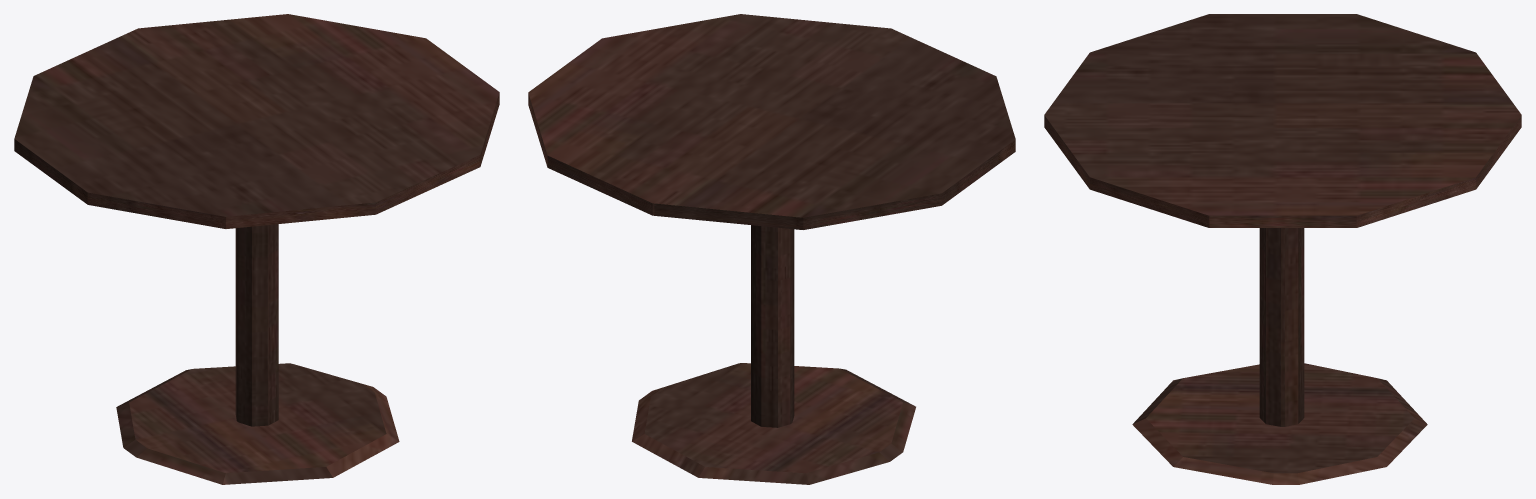
File: TableRondeMedievale.fbx
3 renders of one model, left to right at view 1: azimuth 30°, elevation 25°; view 2: azimuth 150°, elevation 25°; view 3: azimuth 270°, elevation 25°, orthographic.
Parts seen in each view (by area): view 1: TableRondeMedievale; view 2: TableRondeMedievale; view 3: TableRondeMedievale.
Part boxes in pixels (x1,y1,x2,y2): TableRondeMedievale: (14,14,499,484); TableRondeMedievale: (528,14,1015,484); TableRondeMedievale: (1044,14,1521,484).
Bounding box in the file's own units: 105 × 74.99 × 105.
